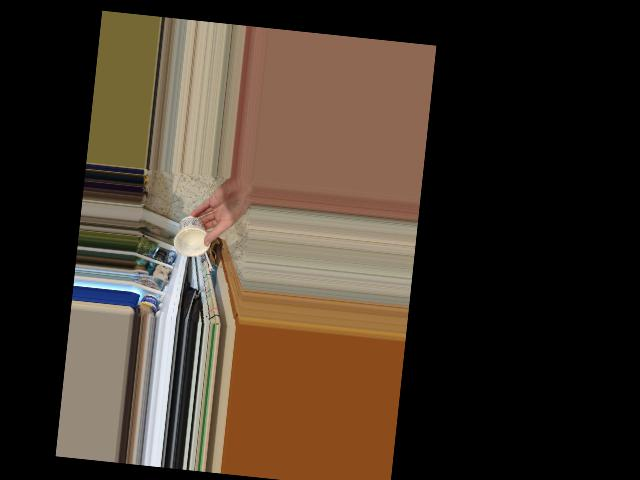cotage: (173, 215, 208, 256)
